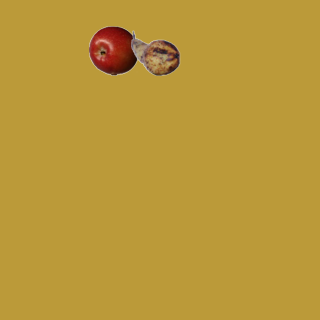Apple Braeburn: (88, 25, 138, 75)
Pear Abate: (130, 28, 180, 78)
